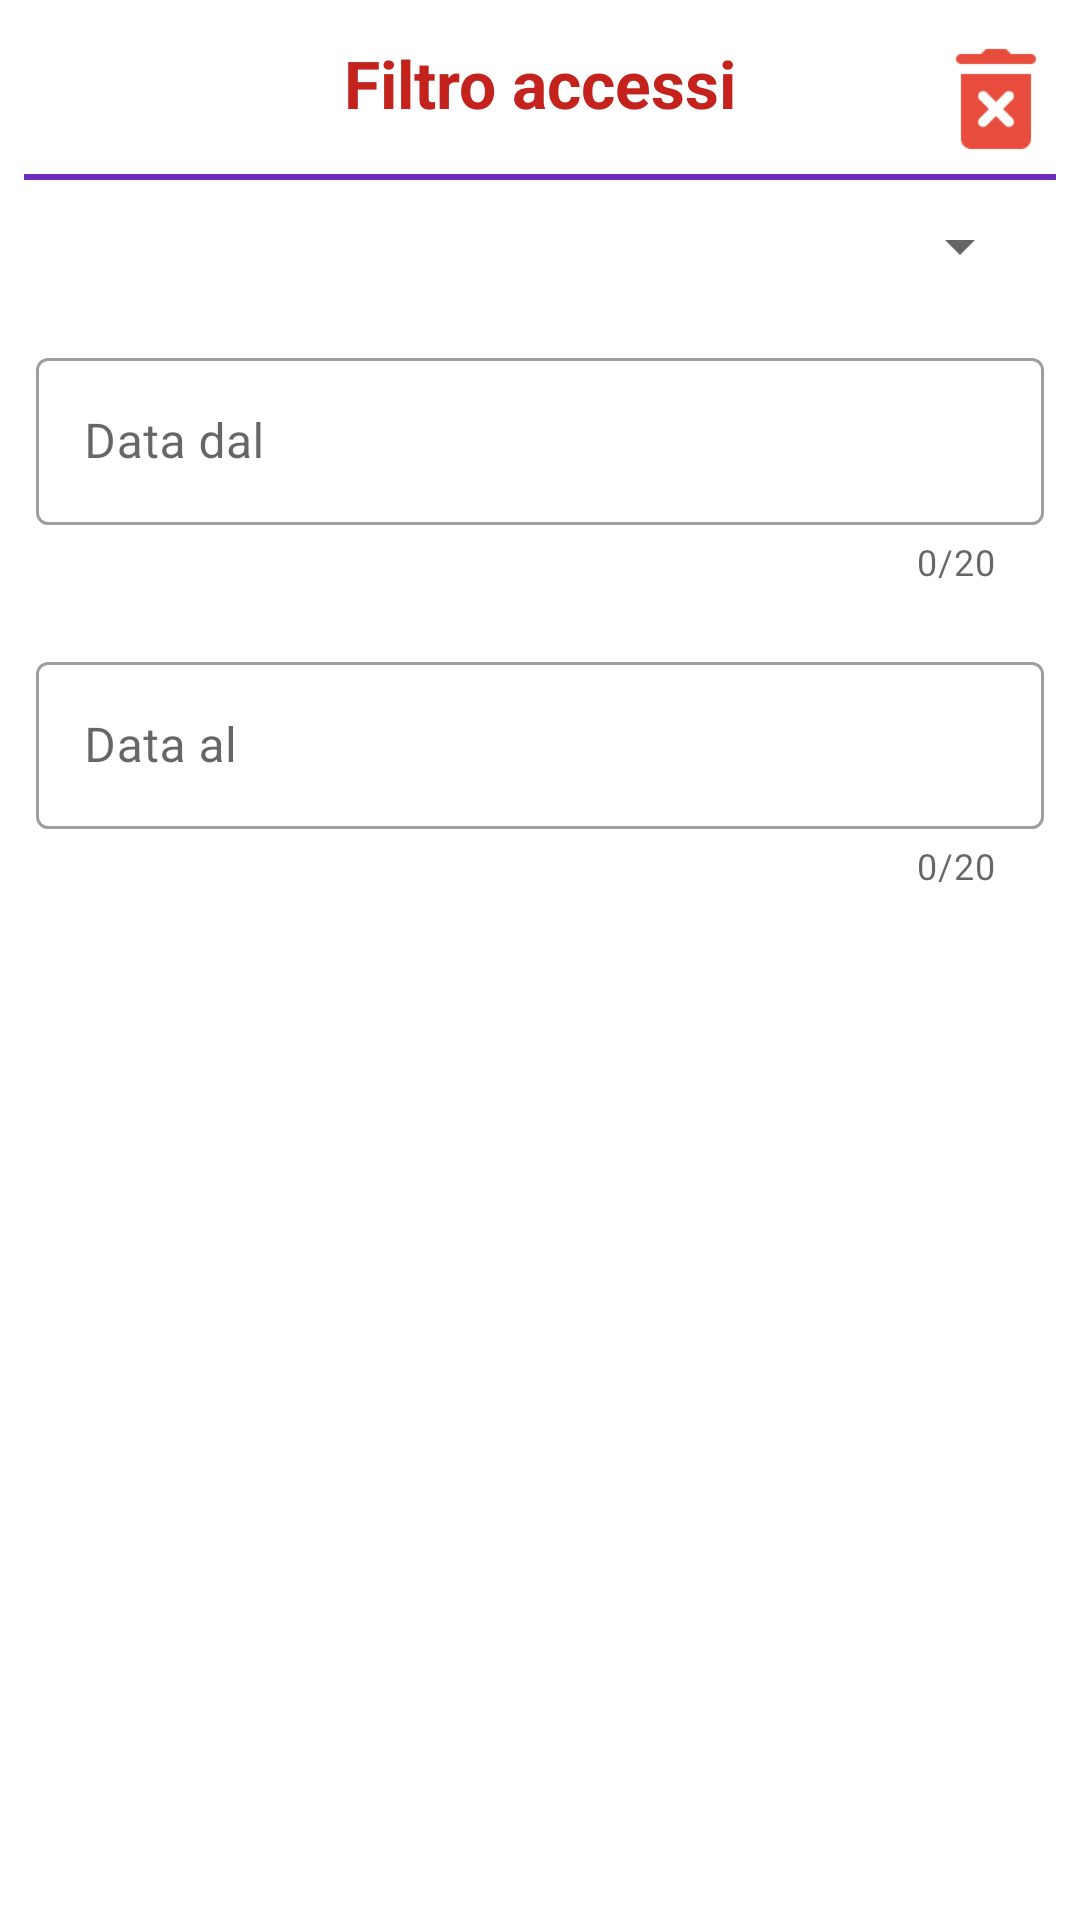

Named icons in this screenshot (1080x1920) and their bounding boxes, bbox=(x1, y1, x2, y2):
delete: bbox=(956, 49, 1036, 149)
